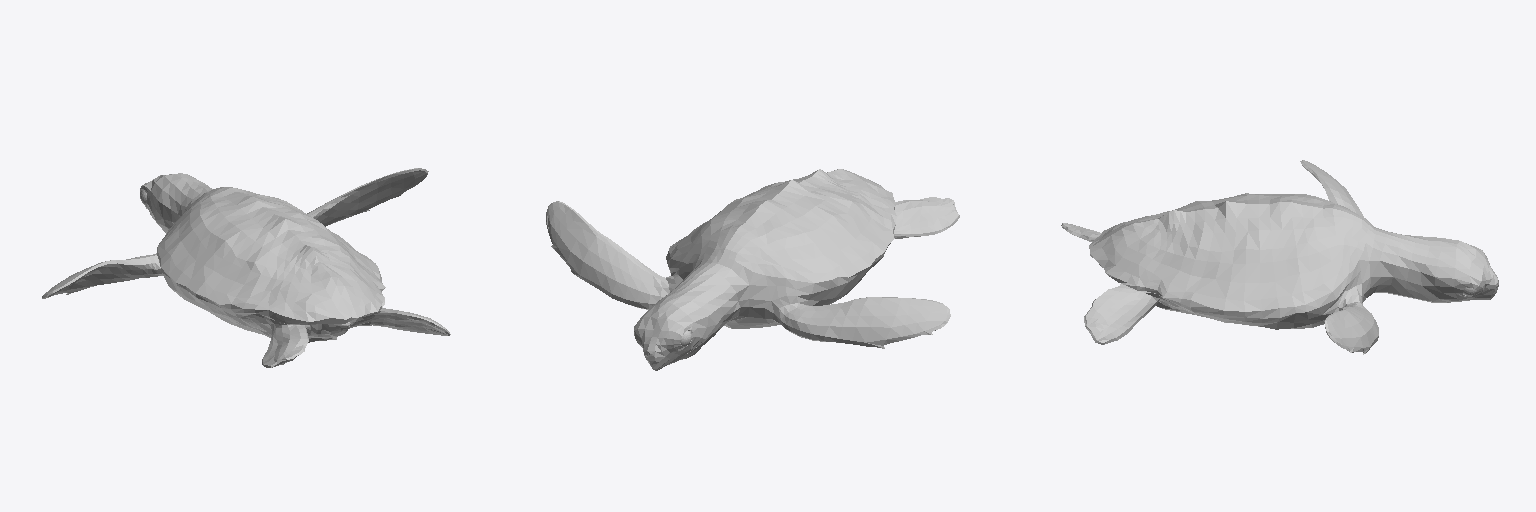
The model's file is model_50a_-_hawksbill_sea_turtle.obj.
3 renders of one model, left to right at view 1: azimuth 30°, elevation 25°; view 2: azimuth 150°, elevation 25°; view 3: azimuth 270°, elevation 25°, orthographic.
Parts seen in each view (by area): view 1: obj1; view 2: obj1; view 3: obj1.
Boxes of the visible parts, x1,y1,x2,y2 form: obj1: [42, 168, 450, 367]; obj1: [546, 169, 959, 370]; obj1: [1061, 160, 1498, 354].
Bounding box in the file's own units: 0.4028 × 0.11 × 0.3882.